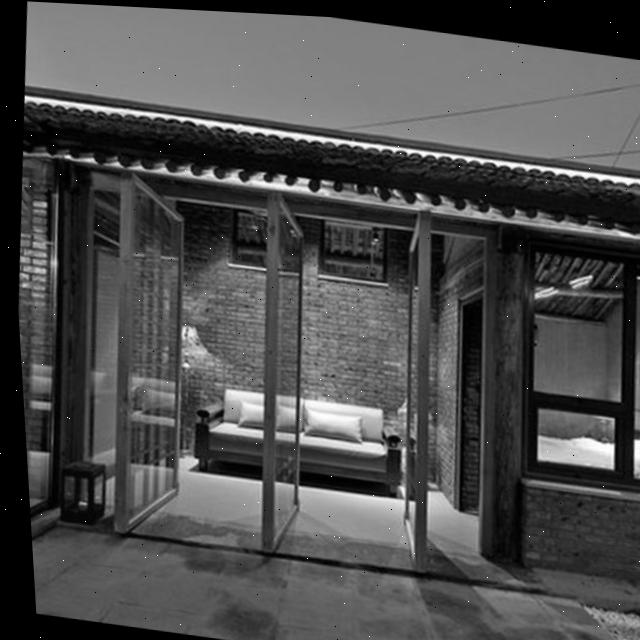building: (5, 79, 640, 610)
